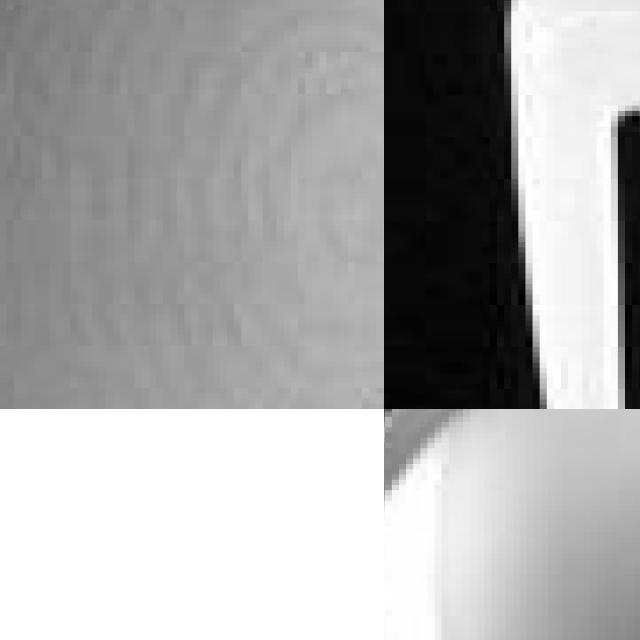forks: (454, 0, 640, 409)
spoons: (0, 0, 384, 409), (384, 409, 640, 640)
